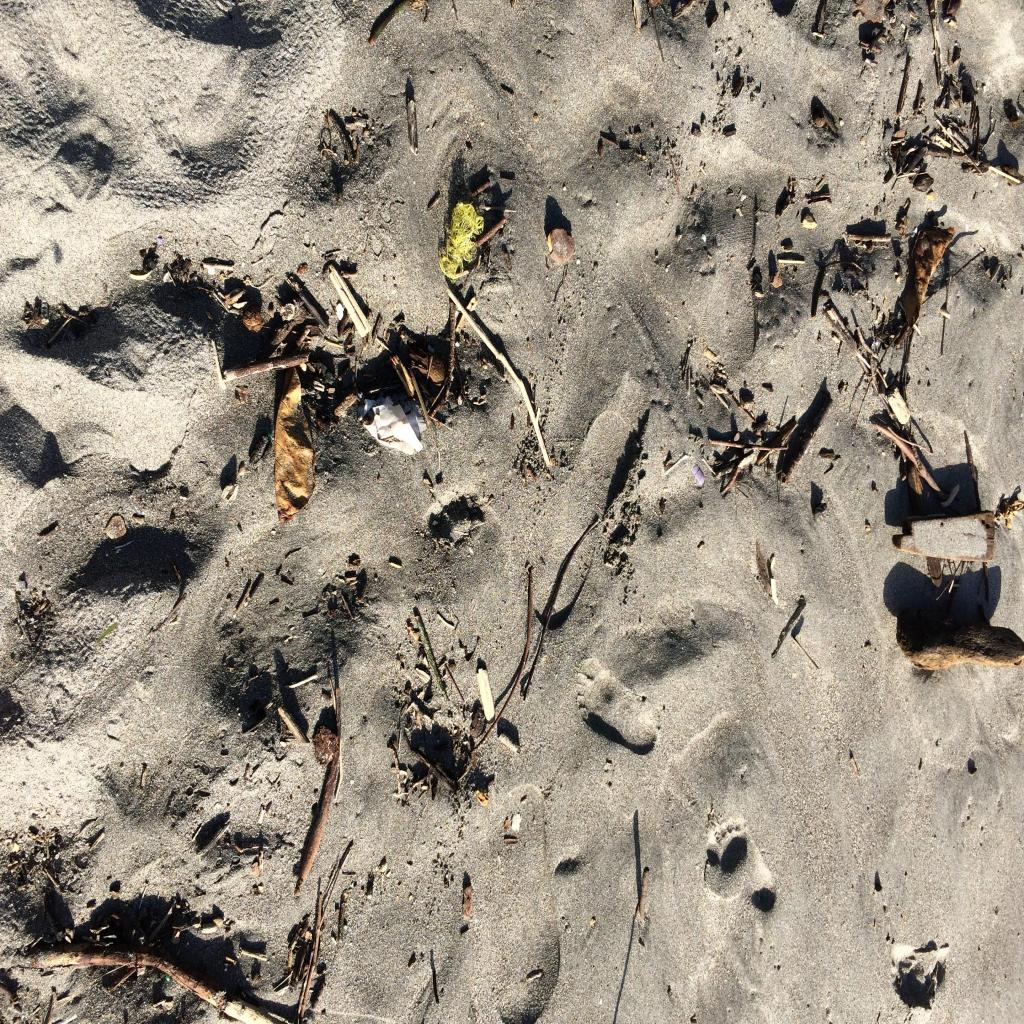Normal paper: (358, 396, 428, 454)
Other plastic bottle: (692, 463, 704, 487)
Rope - strings: (440, 202, 484, 284)
